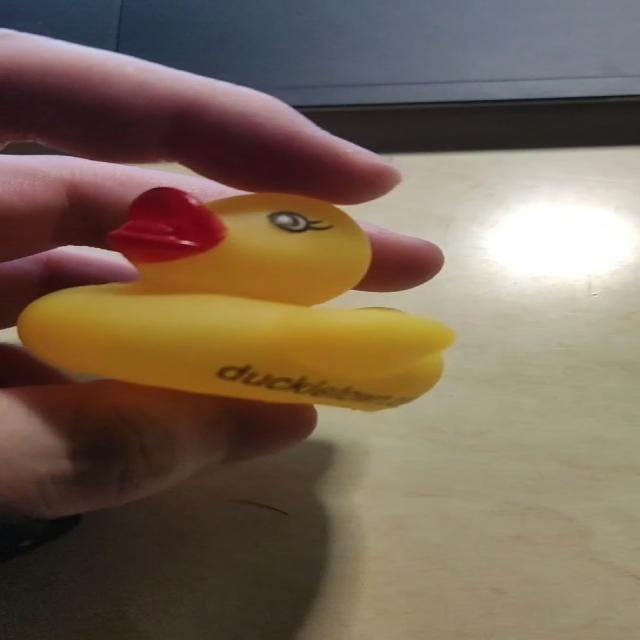rubber-duck: (17, 187, 452, 408)
